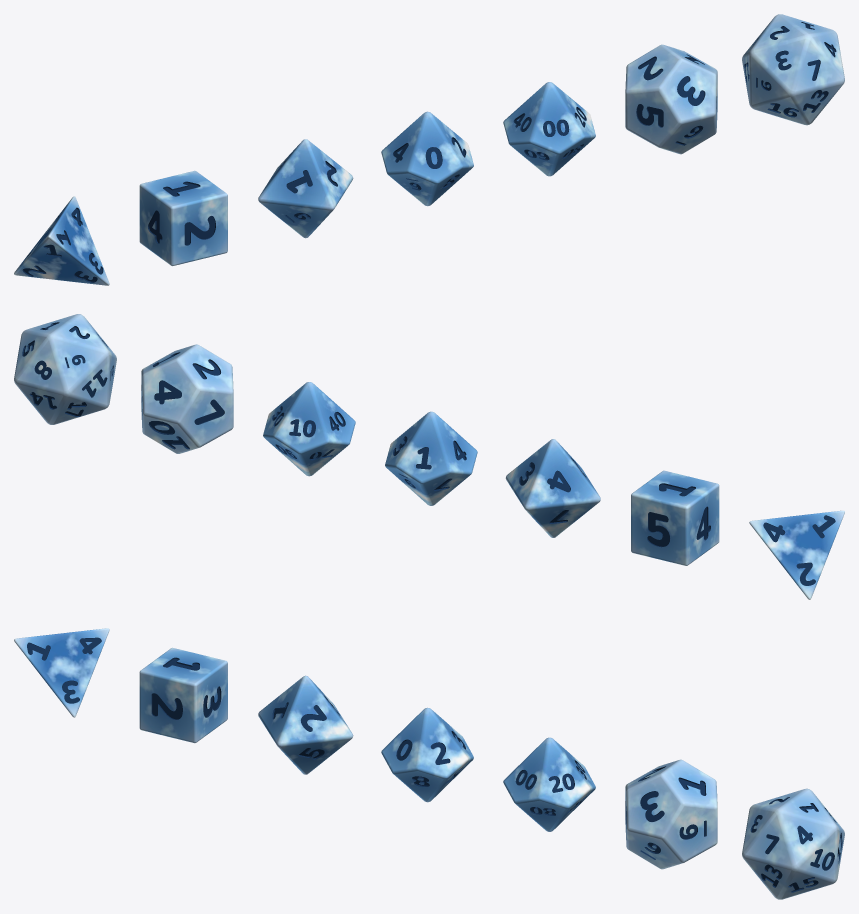
The model's file is sky.glb.
3 renders of one model, top to bottom at view 1: azimuth 30°, elevation 25°; view 2: azimuth 150°, elevation 25°; view 3: azimuth 330°, elevation 25°, orthographic.
Parts seen in each view (by area): view 1: d20, d12, d6, d100, d10, d8, d4; view 2: d20, d12, d6, d100, d10, d8, d4; view 3: d20, d12, d6, d8, d100, d10, d4.
Part boxes in pixels (bbox=[...]): d20: bbox=[742, 14, 844, 125]; d12: bbox=[625, 44, 717, 154]; d6: bbox=[139, 170, 227, 266]; d100: bbox=[503, 82, 595, 176]; d10: bbox=[381, 111, 473, 206]; d8: bbox=[258, 139, 353, 238]; d4: bbox=[14, 196, 109, 285]; d20: bbox=[14, 314, 116, 424]; d12: bbox=[141, 344, 233, 453]; d6: bbox=[631, 470, 719, 565]; d100: bbox=[263, 382, 355, 476]; d10: bbox=[385, 411, 477, 505]; d8: bbox=[505, 439, 600, 537]; d4: bbox=[749, 510, 844, 599]; d20: bbox=[742, 788, 844, 899]; d12: bbox=[625, 759, 717, 869]; d6: bbox=[139, 647, 227, 743]; d8: bbox=[258, 675, 353, 774]; d100: bbox=[503, 737, 595, 831]; d10: bbox=[381, 707, 473, 802]; d4: bbox=[14, 628, 109, 717].
Size of the model in its own units: 21.14 by 2.47 by 2.47.
Materials: 14 (7 with a texture image).
